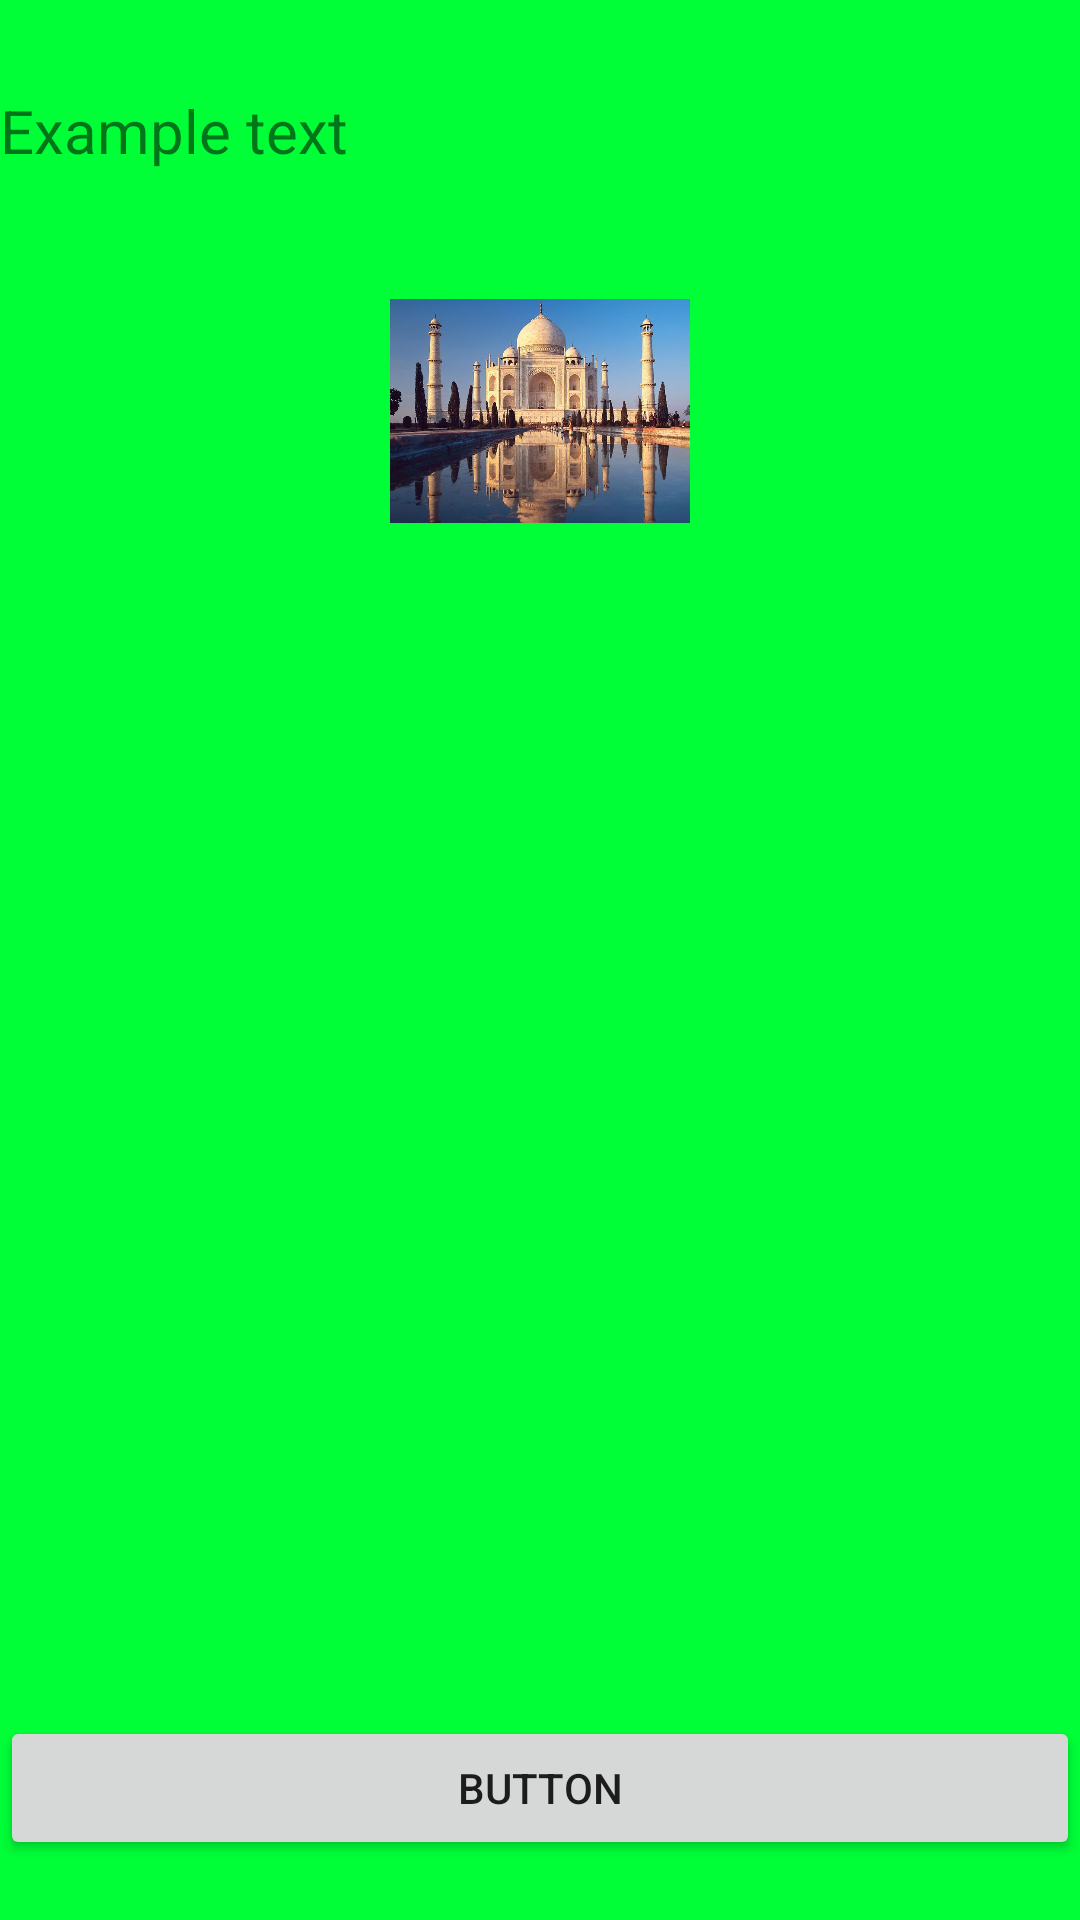

Icons on this 1080 x 1920 Android screen, each with the point to tap as [x,y]:
tac mahal: [540,411]
